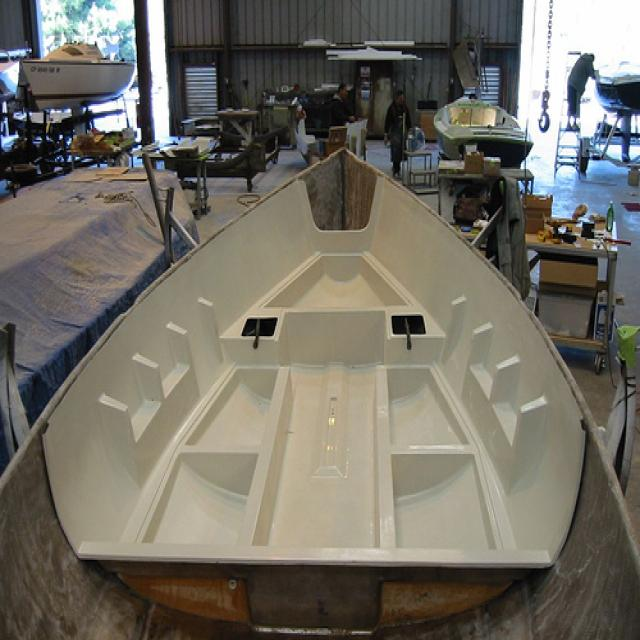boat: (1, 145, 640, 640), (21, 38, 138, 112), (435, 93, 533, 170), (594, 61, 640, 115)
bottle: (606, 199, 616, 233)
person: (383, 86, 413, 182), (566, 53, 598, 133), (324, 81, 356, 126)
